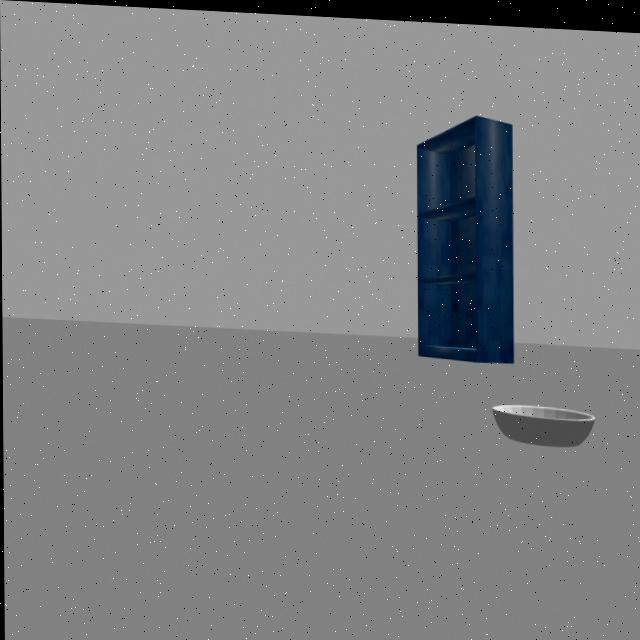bowl: (482, 380, 602, 458)
shelf: (405, 75, 526, 369)
